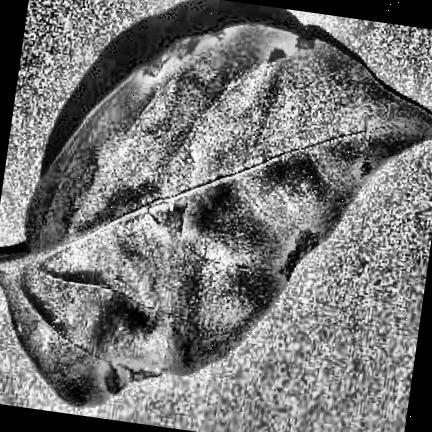leaf: (0, 23, 432, 403)
